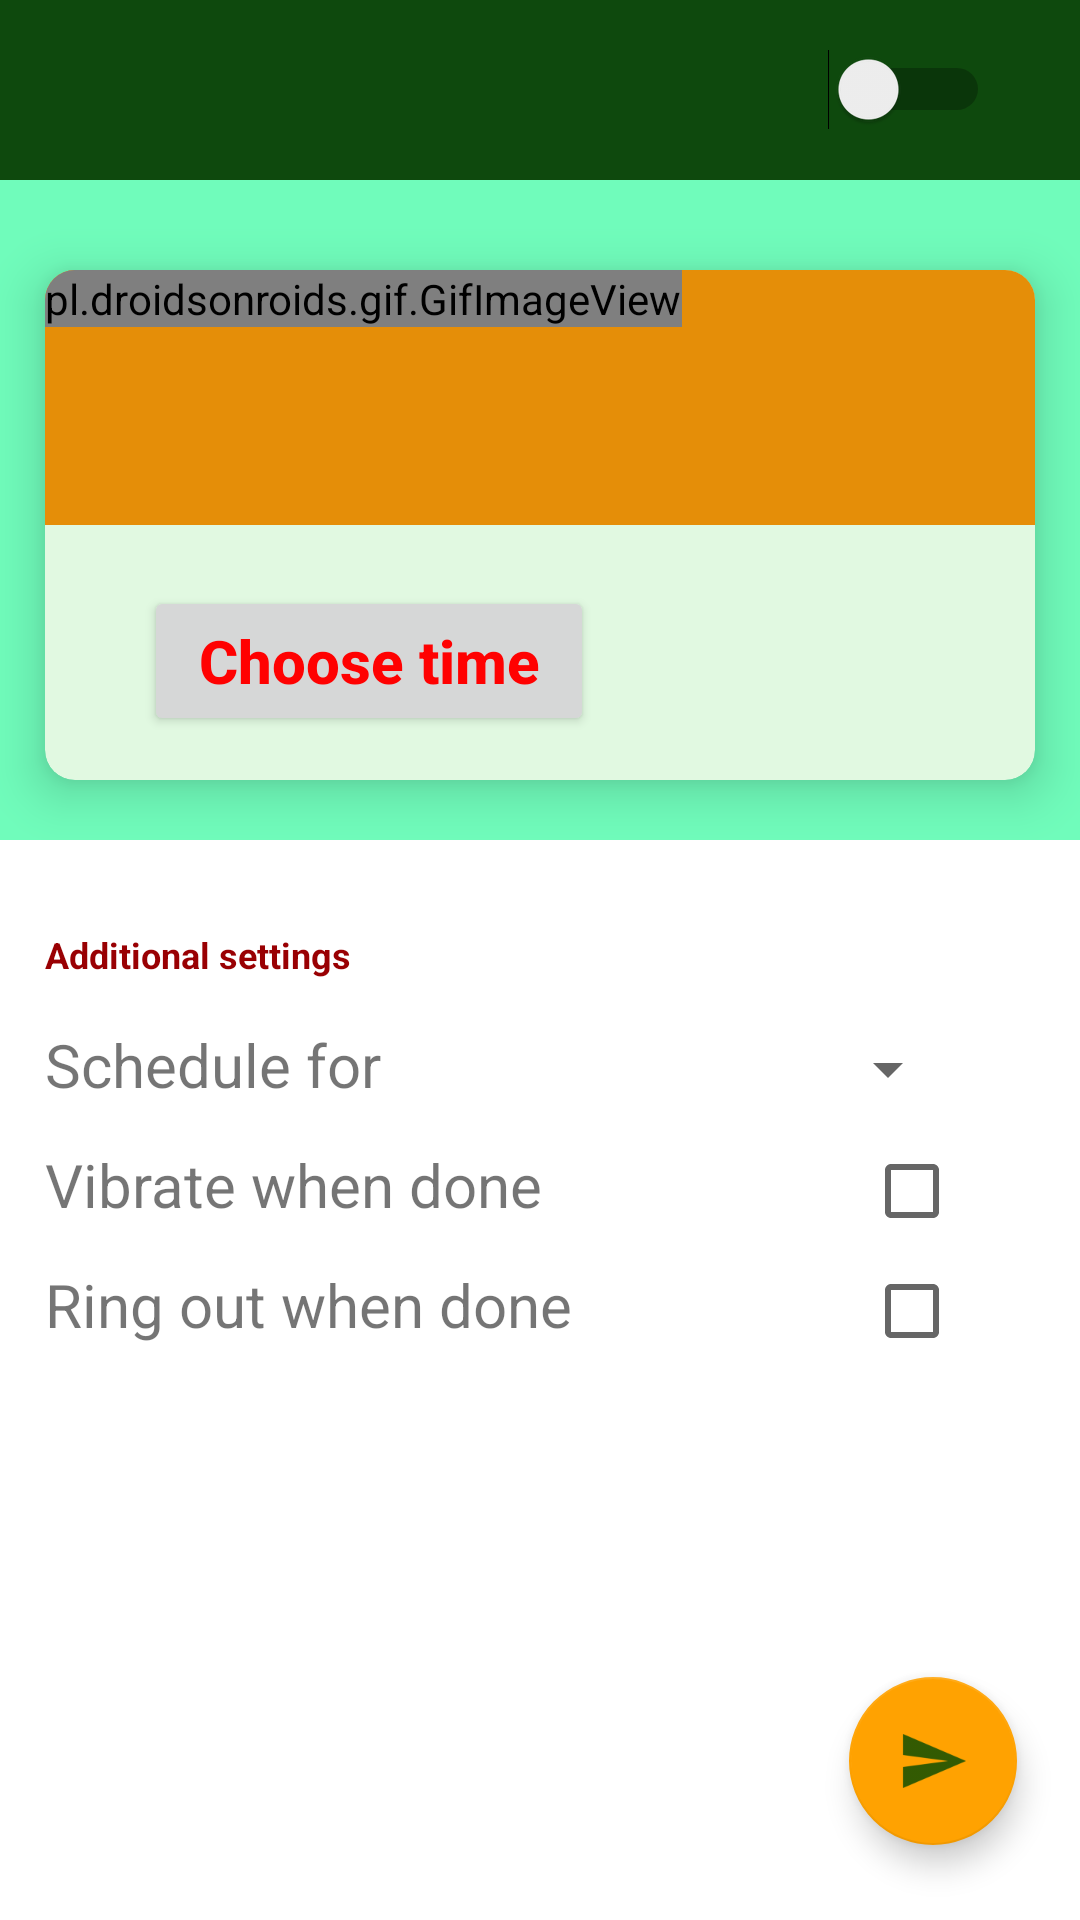

Named icons in this screenshot (1080×1920) and their centers, (x=x, y=y):
send message: (x=933, y=1761)
